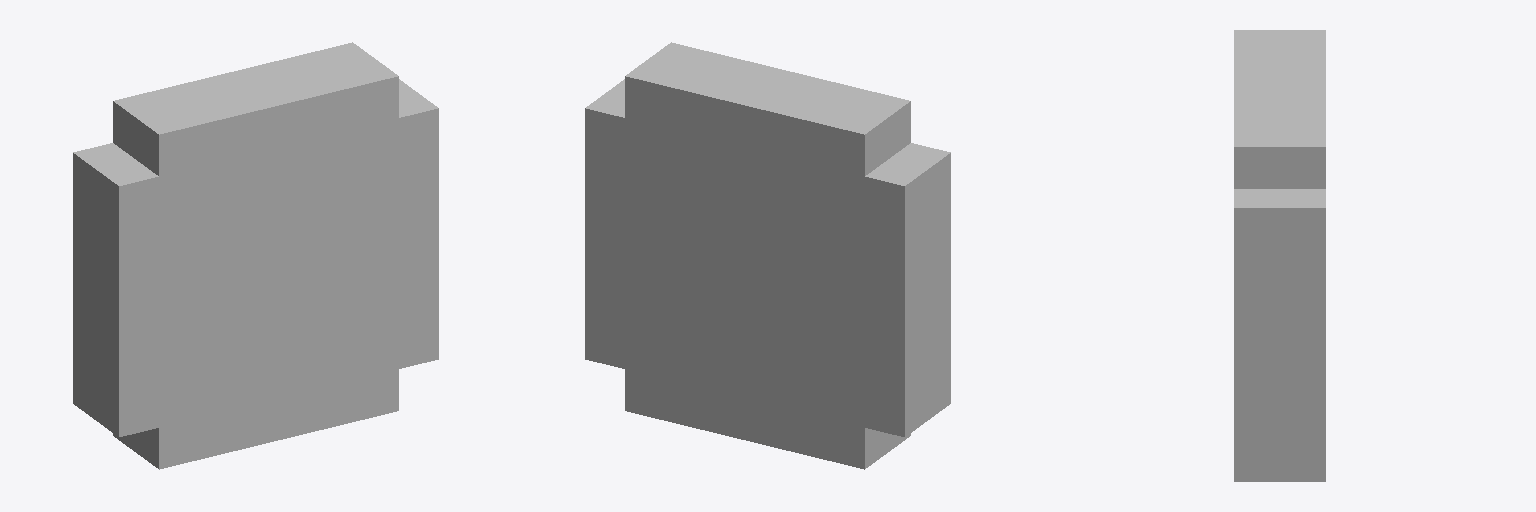
Rendered from VD_runnercredit.obj.
3 renders of one model, left to right at view 1: azimuth 30°, elevation 25°; view 2: azimuth 150°, elevation 25°; view 3: azimuth 270°, elevation 25°, orthographic.
Visible parts, largest first — view 1: cube; view 2: cube; view 3: cube.
Part boxes in pixels (bbox=[...]): cube: bbox=[73, 42, 438, 469]; cube: bbox=[585, 42, 950, 469]; cube: bbox=[1234, 30, 1325, 481].
Bounding box in the file's own units: 0.5 × 0.5 × 0.125.